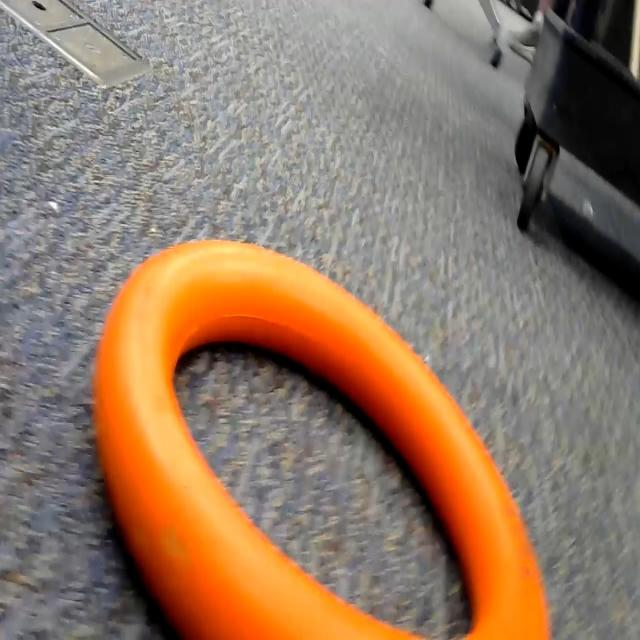note: (74, 216, 564, 640)
